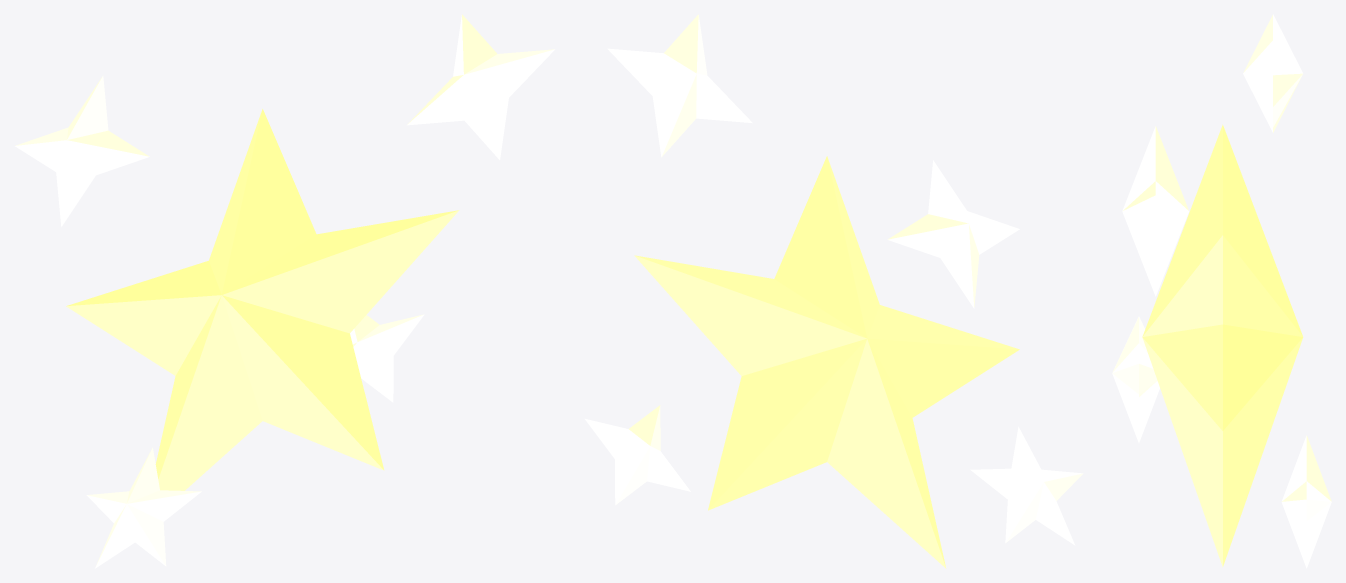
File: f-magisk-stjarna-effekt-cc0.glb
3 renders of one model, left to right at view 1: azimuth 30°, elevation 25°; view 2: azimuth 150°, elevation 25°; view 3: azimuth 270°, elevation 25°, orthographic. The views are drawn at different scales.
Visible parts, largest first — view 1: Magisk_Stjarna_Effekt; view 2: Magisk_Stjarna_Effekt; view 3: Magisk_Stjarna_Effekt.
Boxes of the visible parts, x1,y1,x2,y2 form: Magisk_Stjarna_Effekt: (15, 14, 554, 568); Magisk_Stjarna_Effekt: (585, 14, 1083, 568); Magisk_Stjarna_Effekt: (1112, 14, 1331, 568).
Size of the model in its own units: 0.3254 by 0.3051 by 0.131.
